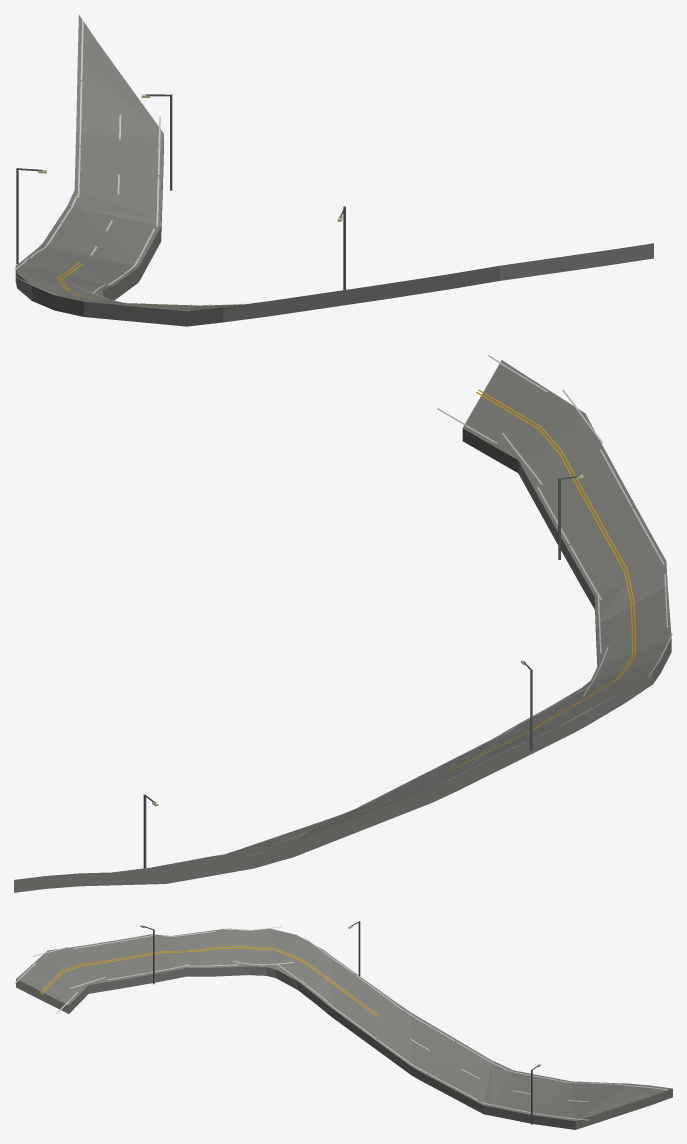
3 views of the same model, one above another, from view 1: azimuth 30°, elevation 25°; view 2: azimuth 150°, elevation 25°; view 3: azimuth 270°, elevation 25° (orthographic). The views are drawn at different scales.
Bounding box in the file's own units: 36.68 × 21.88 × 82.18.
